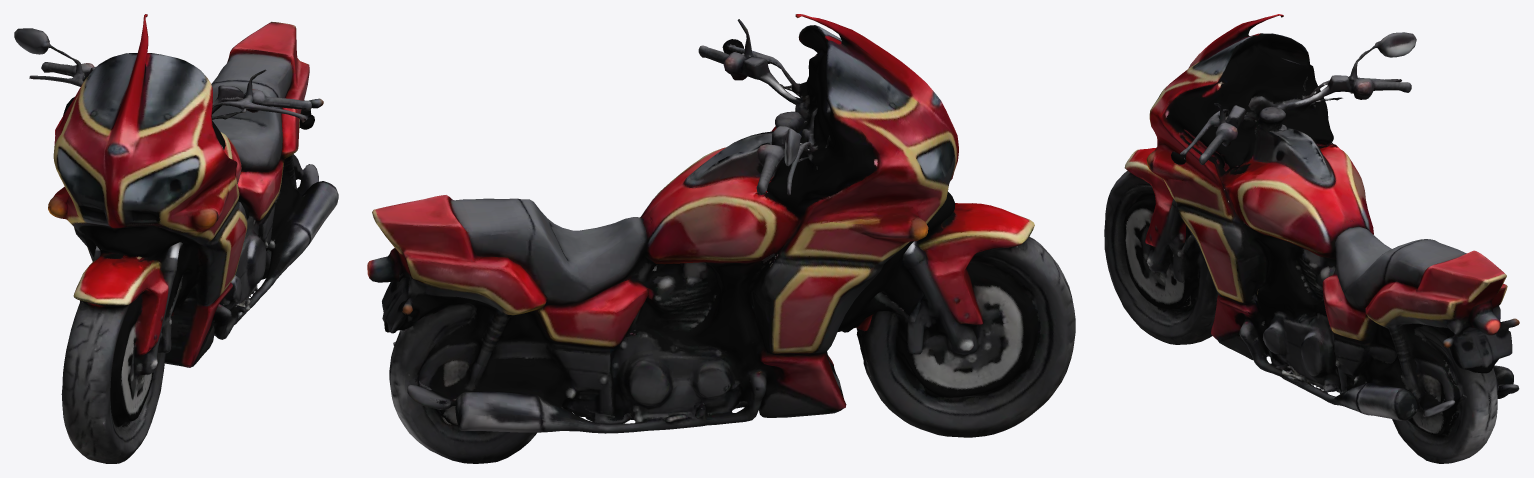
The picture shows the model from 3 angles, left to right: view 1: azimuth 30°, elevation 25°; view 2: azimuth 150°, elevation 25°; view 3: azimuth 270°, elevation 25°; orthographic projection. The views are drawn at different scales.
Parts seen in each view (by area): view 1: Mesh_0; view 2: Mesh_0; view 3: Mesh_0.
Part boxes in pixels (x1,y1,x2,y2): Mesh_0: (14, 14, 338, 463); Mesh_0: (367, 14, 1075, 463); Mesh_0: (1104, 14, 1519, 463).
Bounding box in the file's own units: 1.43 × 1.22 × 1.26.
Materials: 1 (1 with a texture image).
